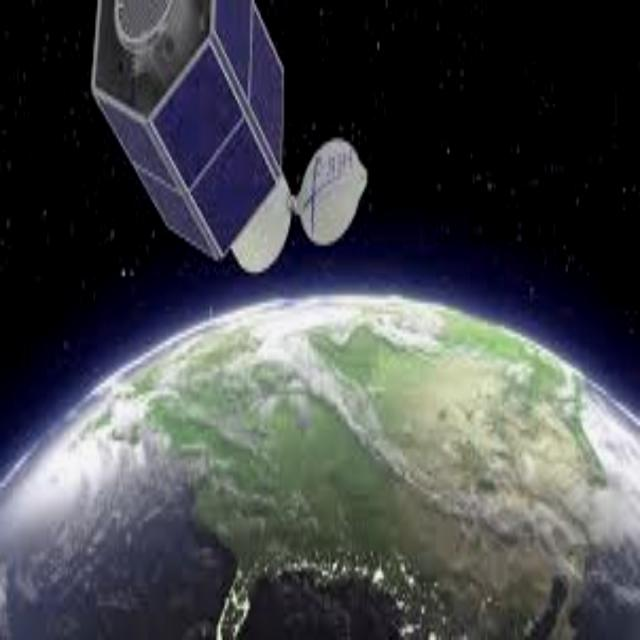satellite: (61, 0, 387, 300)
